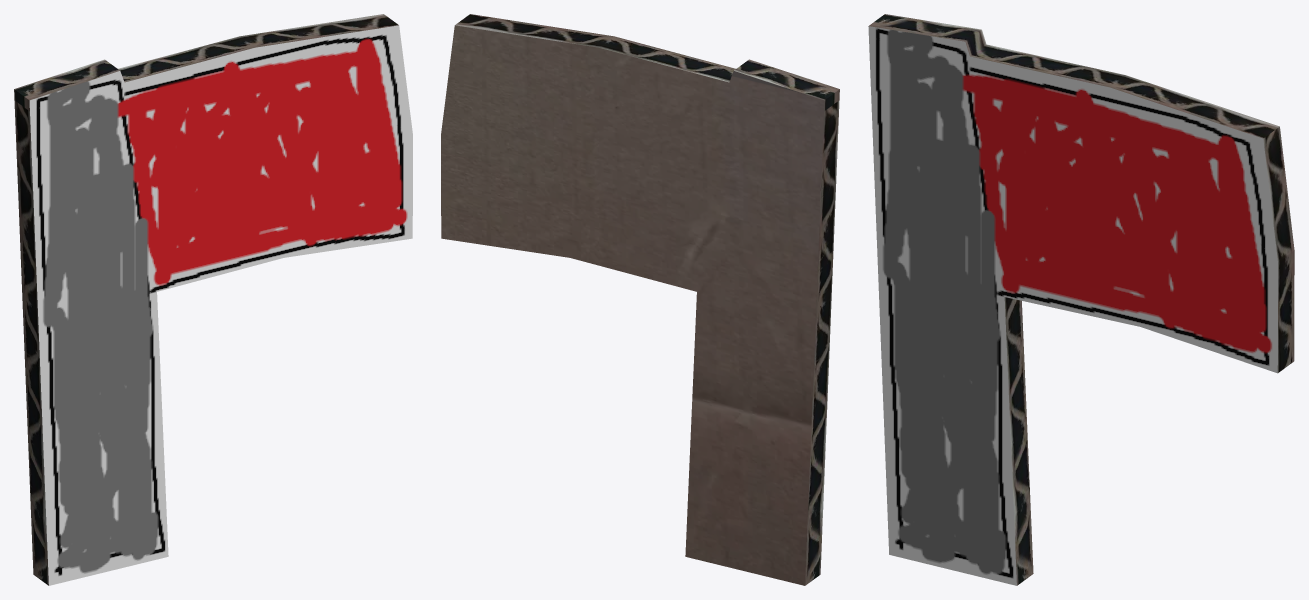
File: flag.fbx
3 views of the same model, side by side, from view 1: azimuth 30°, elevation 25°; view 2: azimuth 150°, elevation 25°; view 3: azimuth 330°, elevation 25° (orthographic). The views are drawn at different scales.
Visible parts, largest first — view 1: flag-up; view 2: flag-up; view 3: flag-up.
Part boxes in pixels (x1=…): flag-up: x1=14, y1=14, x2=412, y2=585; flag-up: x1=441, y1=14, x2=839, y2=585; flag-up: x1=868, y1=14, x2=1294, y2=585.
Bounding box in the file's own units: 472 × 585 × 33.
